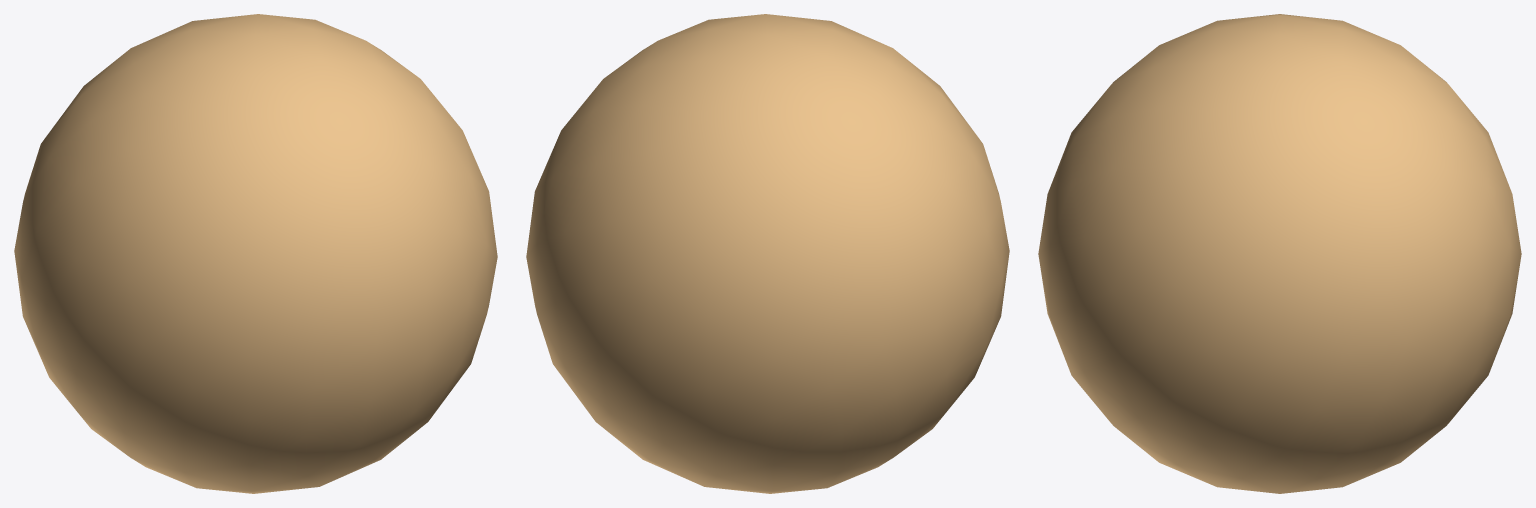
File: skull_habilis.glb
3 renders of one model, left to right at view 1: azimuth 30°, elevation 25°; view 2: azimuth 150°, elevation 25°; view 3: azimuth 270°, elevation 25°, orthographic.
Size of the model in its own units: 2 by 2 by 2.
